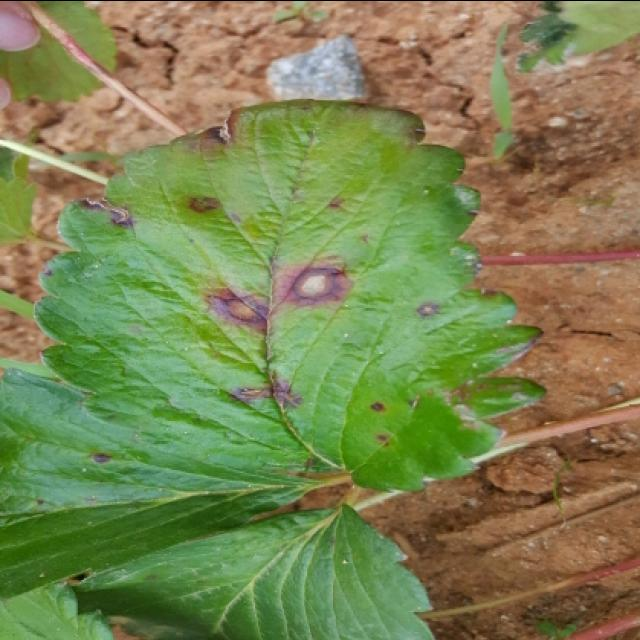Leaf Spot: (31, 96, 547, 494), (0, 364, 325, 604)
